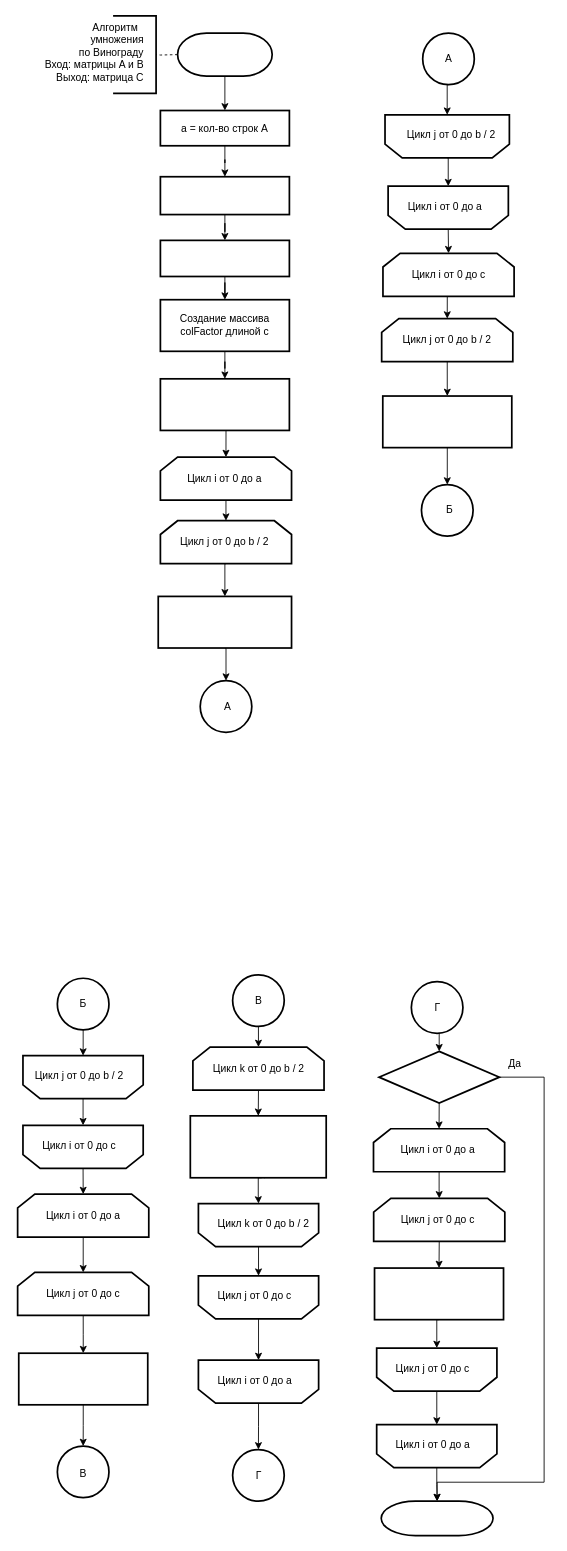
The diagram is 567 pixels wide and 1551 high, and some of its shapes have lost their labels. Here are the shapes that lost their labels. From the top down, the centre of each, then its label:
At point (224, 54): "Начало".
At point (224, 195): "b = кол-во столбцов А".
At point (224, 258): "c = кол-во столбцов B".
At point (224, 404): "Создание массива rowFactor длиной a".
At point (446, 421): "colFactor[i] = colFactor[i] + B[2 * j][i] + B[2 * j + 1][i]".
At point (224, 621): "rowFactor[i] = rowFactor[i] + A[i][2 * j] + A[i][2 * j + 1]".
At point (439, 1076): "b / 2 четное".
At point (258, 1146): "C[i][j] += (A[i][2 * k] + B[2 * k + 1][j]) * (A[i][2 * k + 1] + B[2 * k][j)".
At point (438, 1293): "C[i][j] = C[i][j] + A[i][b - 1] * B[b - 1][j]".
At point (82, 1378): "C[i][j] = C[i][j] - (rowFactorA[i] + colFactor[j])".
At point (436, 1518): "Конец".
